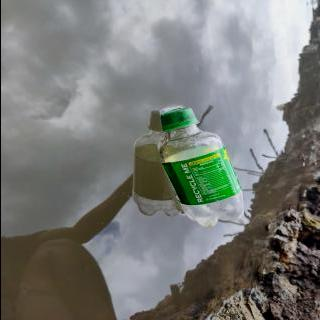bottle: (154, 104, 248, 229)
